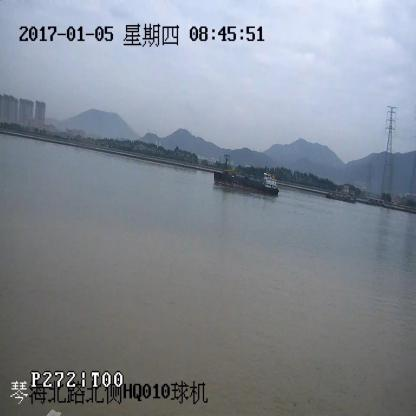Bulk Carrier: (214, 156, 277, 196)
